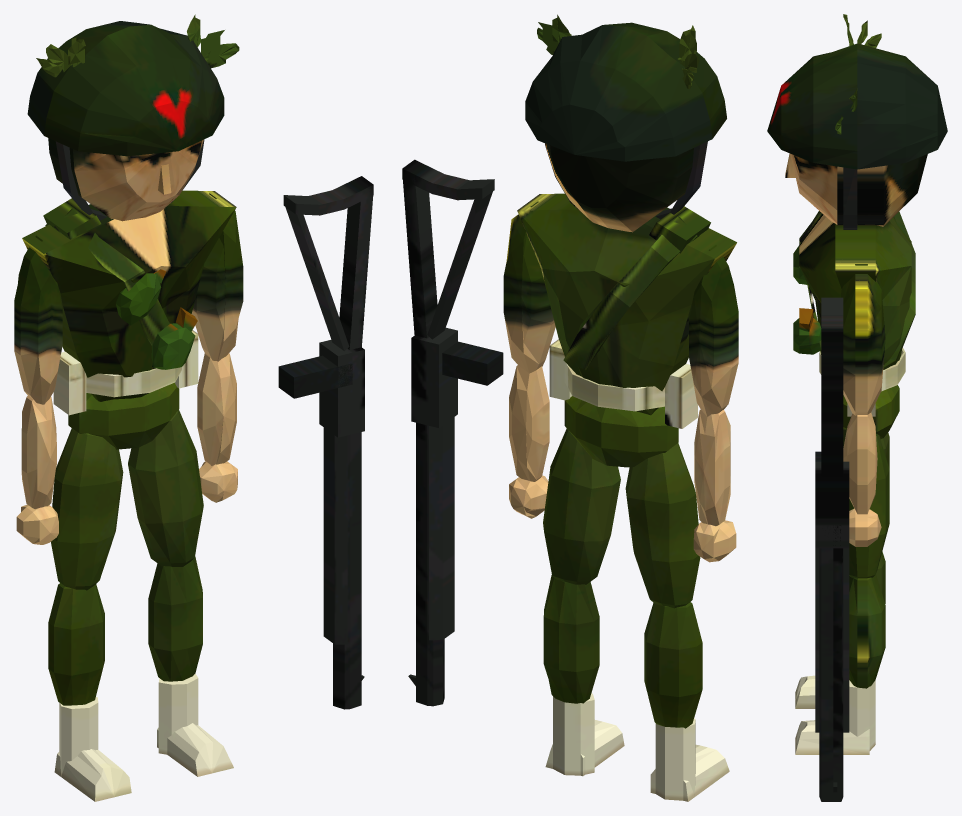
The model's file is Soldier.glb.
3 renders of one model, left to right at view 1: azimuth 30°, elevation 25°; view 2: azimuth 150°, elevation 25°; view 3: azimuth 270°, elevation 25°, orthographic. The views are drawn at different scales.
Parts seen in each view (by area): view 1: Soldier; view 2: Soldier; view 3: Soldier.
Boxes of the visible parts, x1,y1,x2,y2 form: Soldier: (14, 14, 373, 801); Soldier: (402, 14, 738, 801); Soldier: (767, 14, 947, 801).
Size of the model in its own units: 135 by 288 by 68.98.
1 material, 1 textured.
